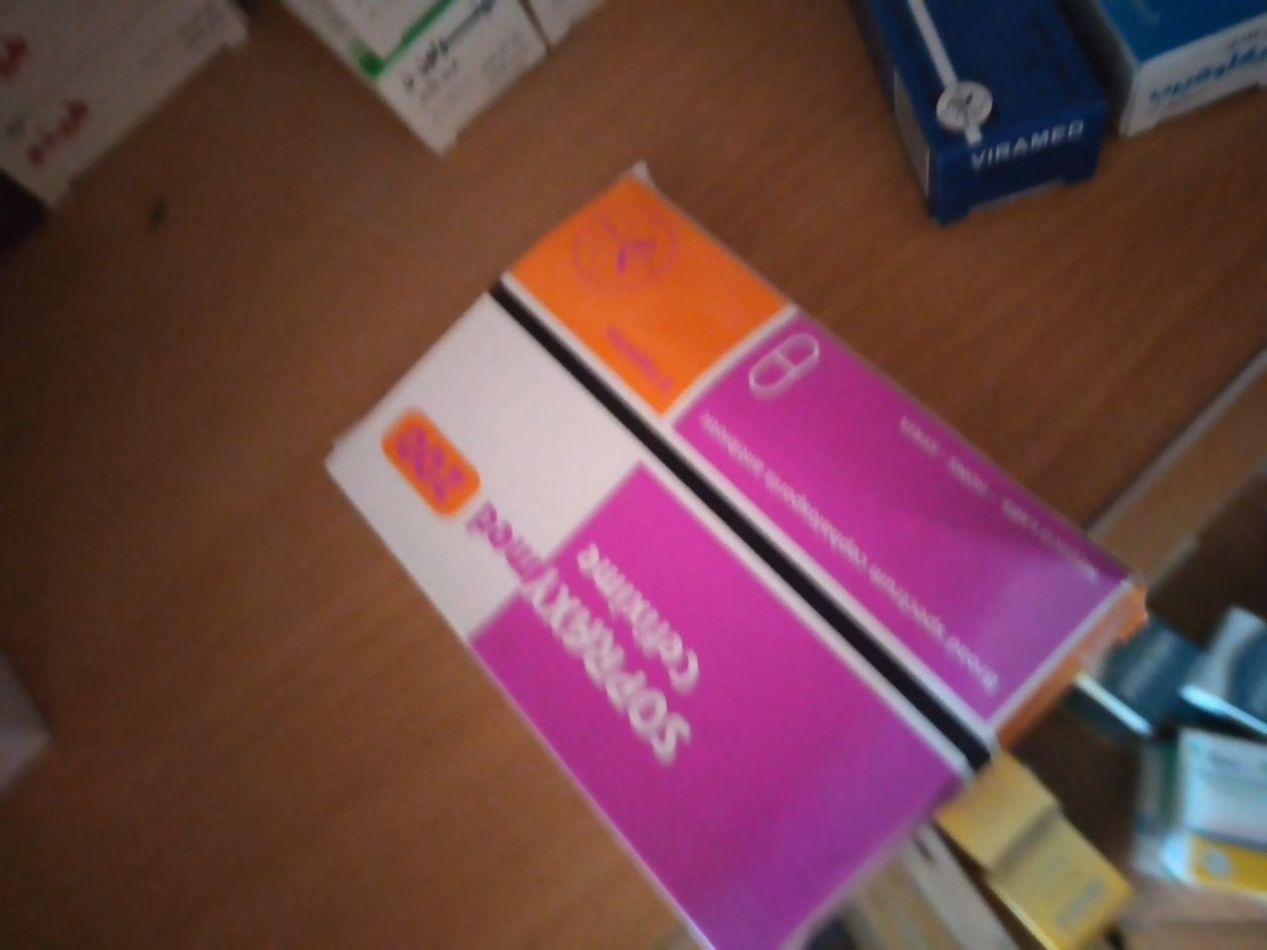Medicine: (312, 302, 945, 943), (527, 148, 1148, 755), (849, 0, 1099, 228), (502, 148, 530, 151)
